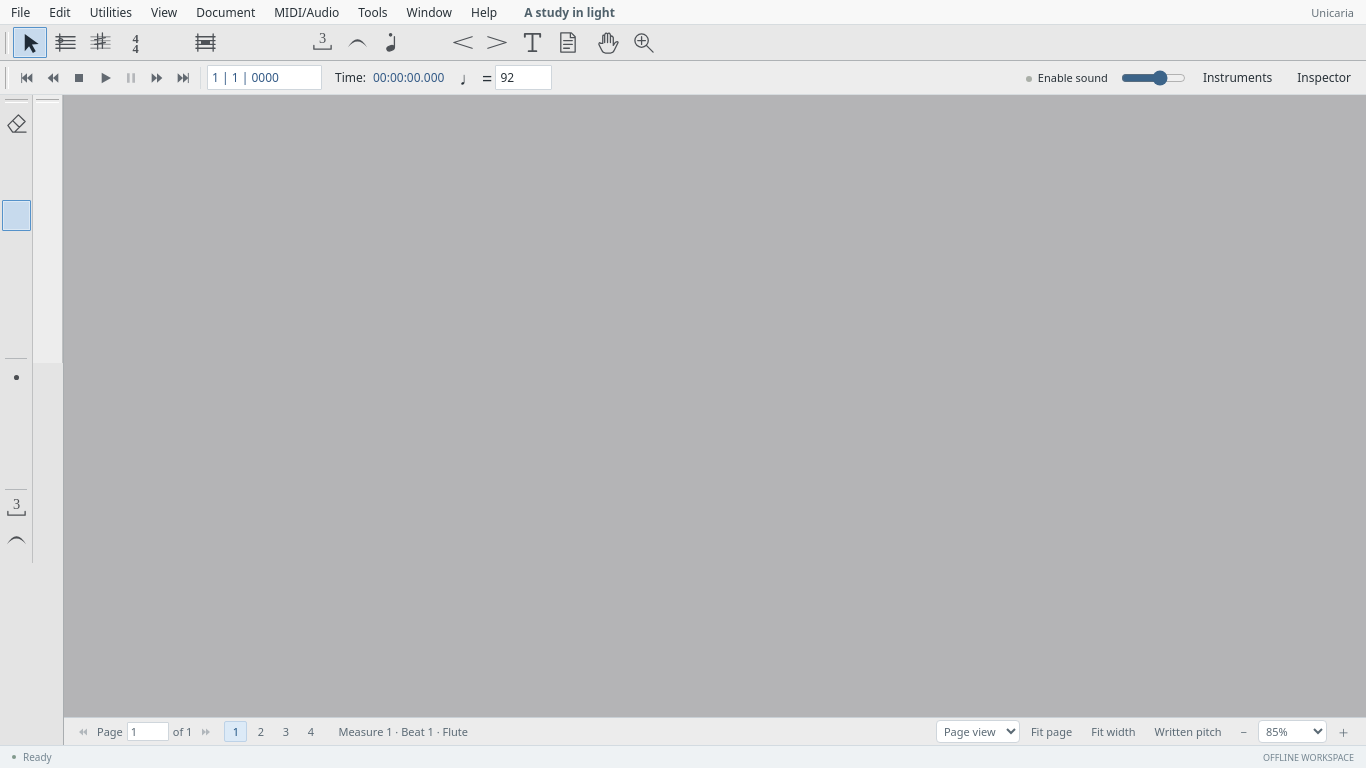
Scenario: familiar score editing gestures › playback position accepts beat/tick positions and rejects out-of-score values
Replace the text in the field named "Playback position" with "3 | 2 | 512" at (264, 78), box [207,65,322,90]
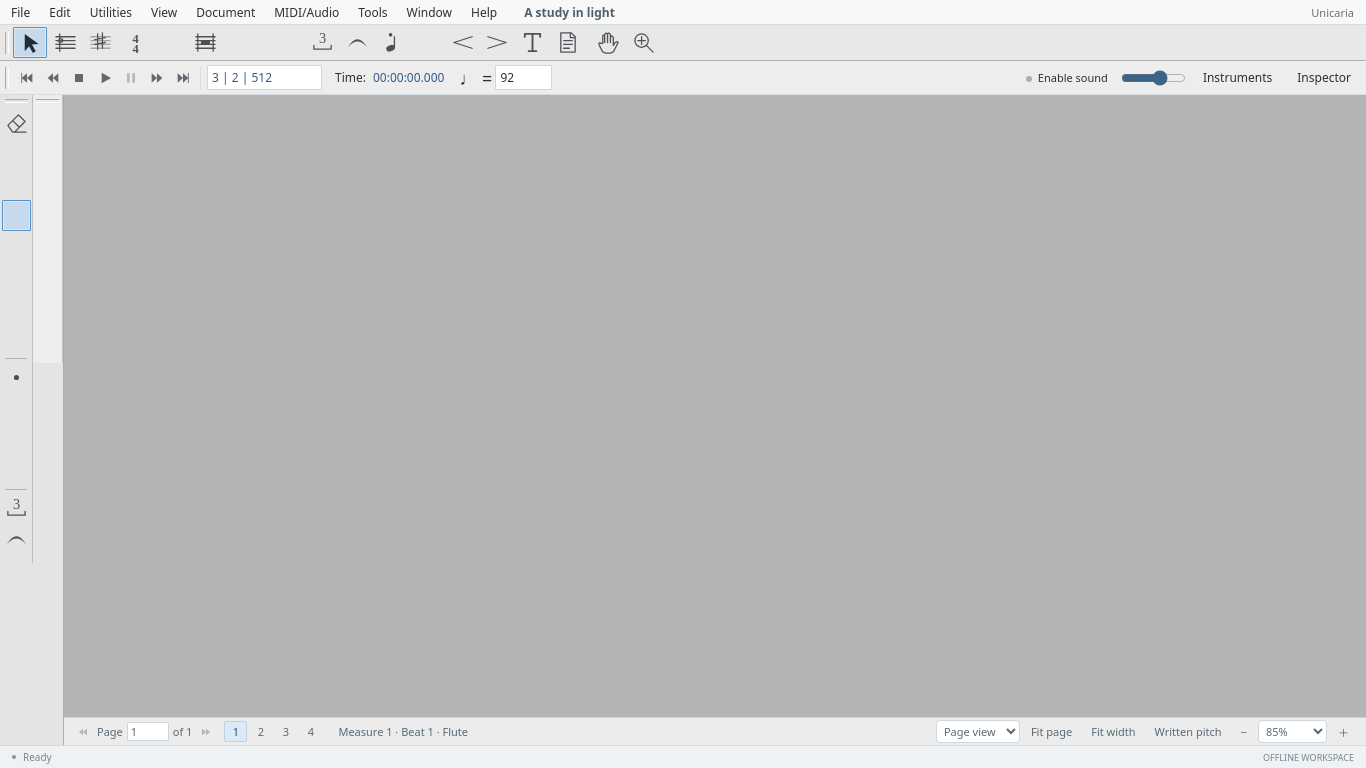
Leave the field named "Playback position", box [207,65,322,90]
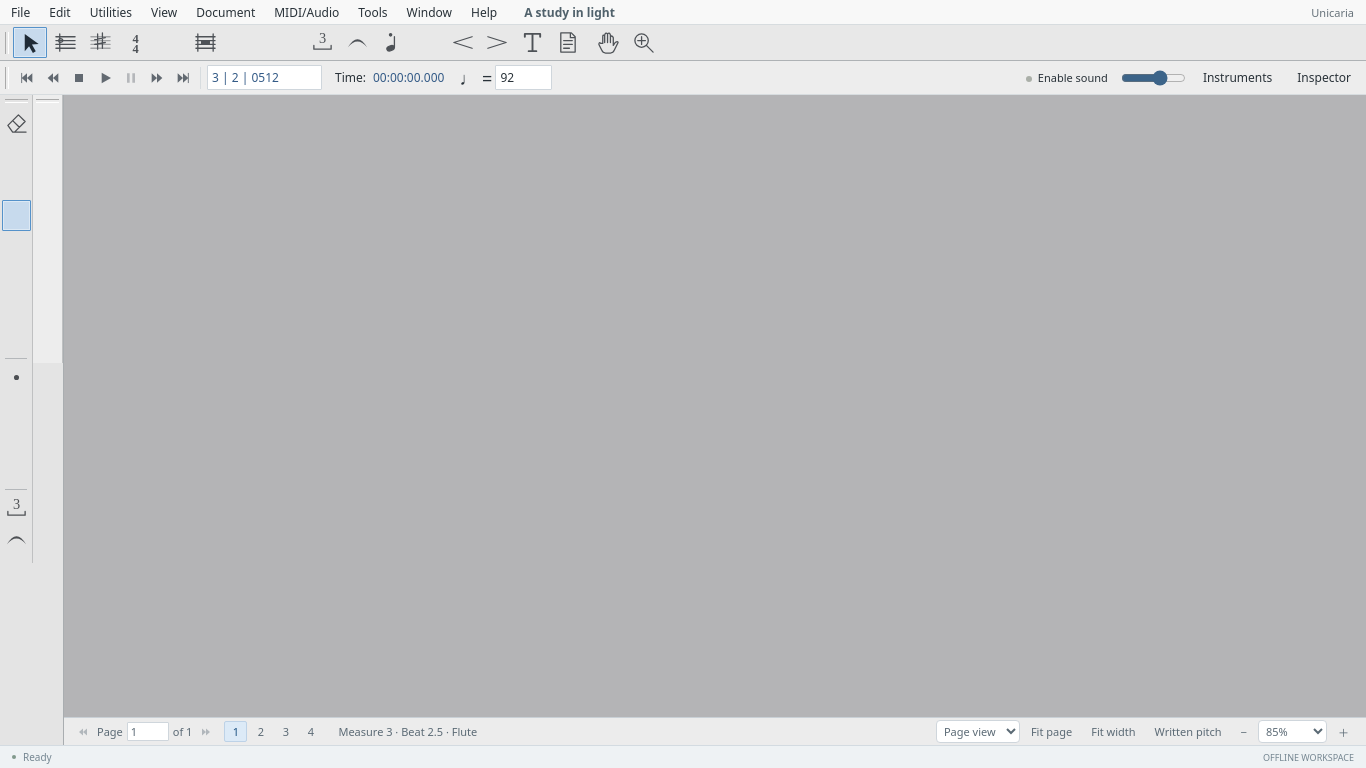
expect the button "Measure 3 · Beat 2.5 · Flute" is shown: met, box [330,720,485,743]
Replace the text in the field named "Playback position" with "9999" at (264, 78), box [207,65,322,90]
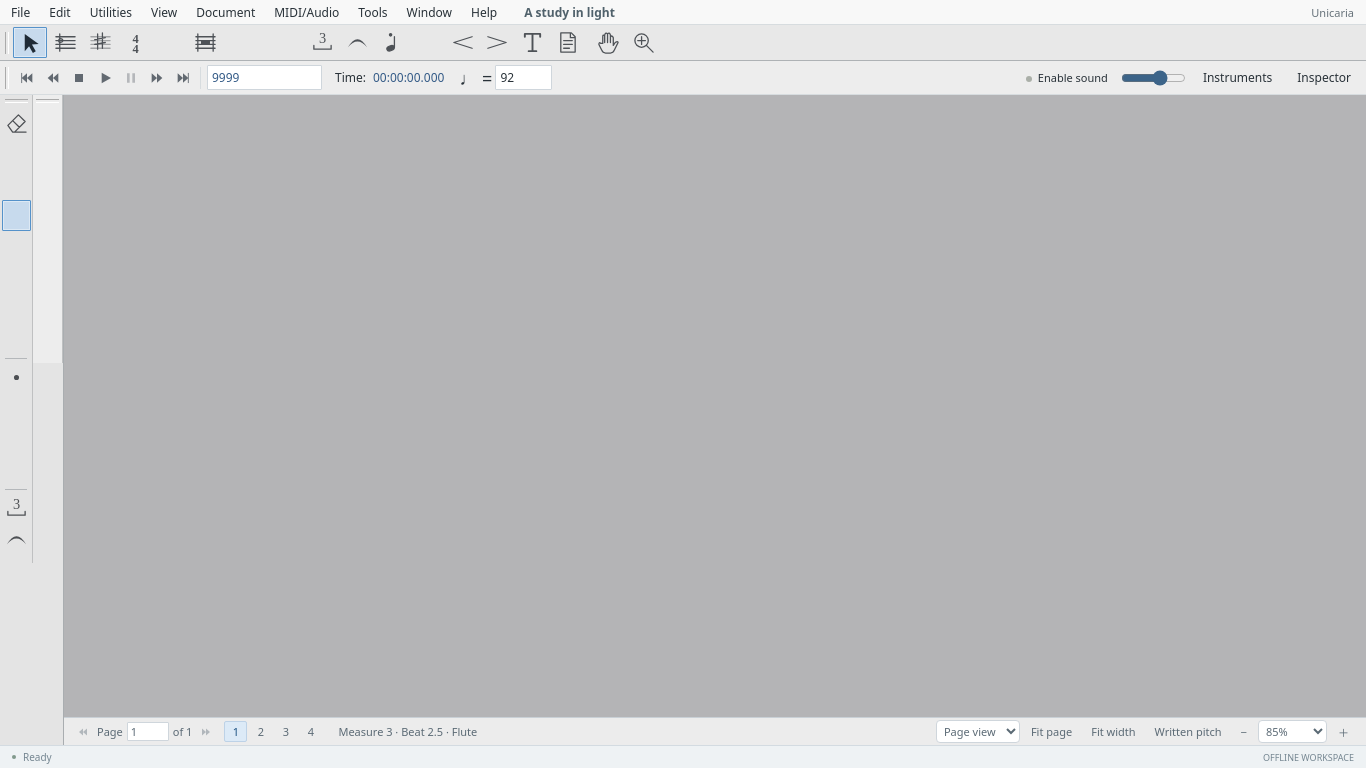
Leave the field named "Playback position", box [207,65,322,90]
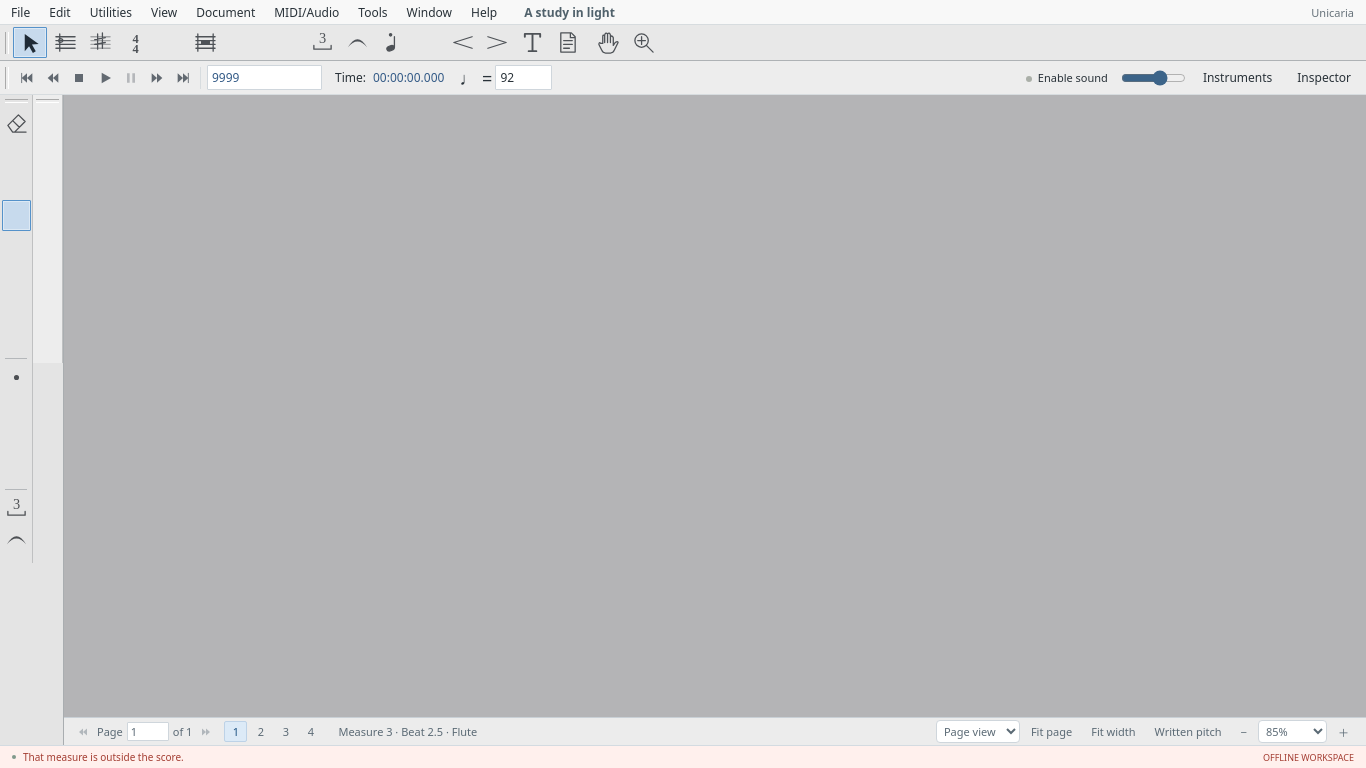
expect the button "Measure 3 · Beat 2.5 · Flute" is shown: met, box [330,720,485,743]
expect the text "That measure is outside the score." is shown: met, box [23,750,184,764]
